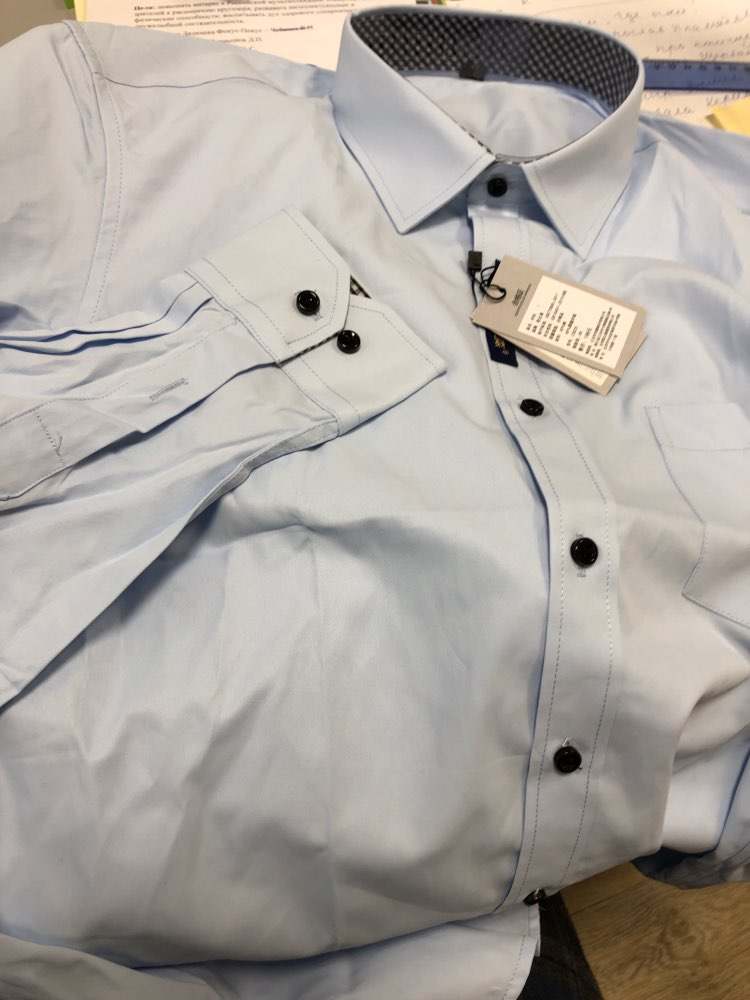shirts: (24, 29, 750, 911)
